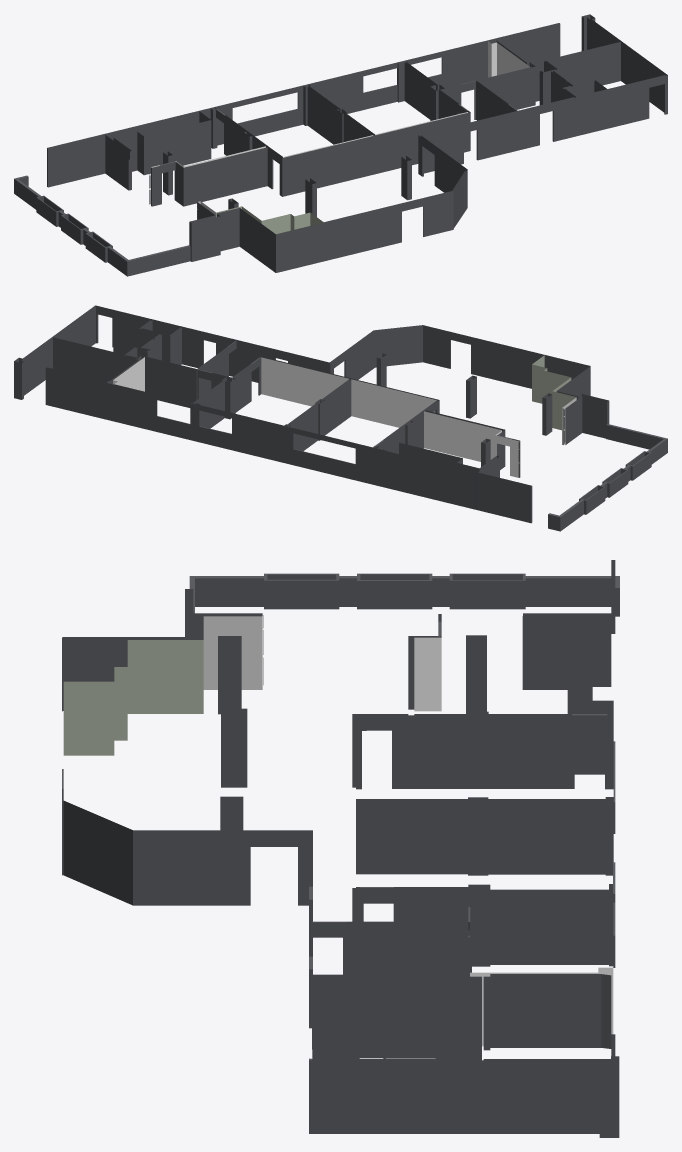
File: locaux_1er_etage.fbx
3 views of the same model, one above another, from view 1: azimuth 30°, elevation 25°; view 2: azimuth 150°, elevation 25°; view 3: azimuth 270°, elevation 25° (orthographic). The views are drawn at different scales.
Parts seen in each view (by area): view 1: laucaux; view 2: laucaux; view 3: laucaux.
Boxes of the visible parts, box(x1,y1,x2,y2) form: laucaux: box(14, 14, 667, 276); laucaux: box(14, 305, 667, 531); laucaux: box(62, 560, 619, 1137).
Size of the model in its own units: 3903 by 254 by 1717.
